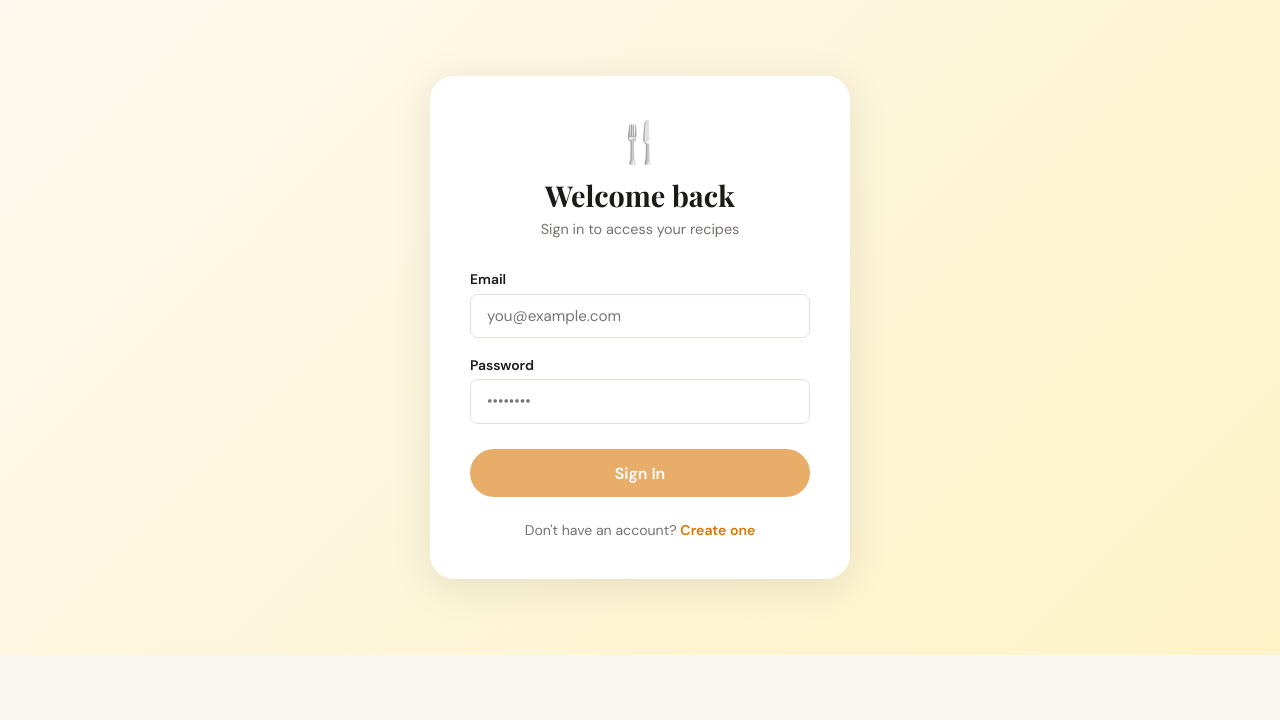
Test: Login Form › shows error on failed login
The width and height of the screenshot is (1280, 720).
Type "nouser@test.com" into the field labelled "Email". click: (640, 316)
box: [470,294,810,338]
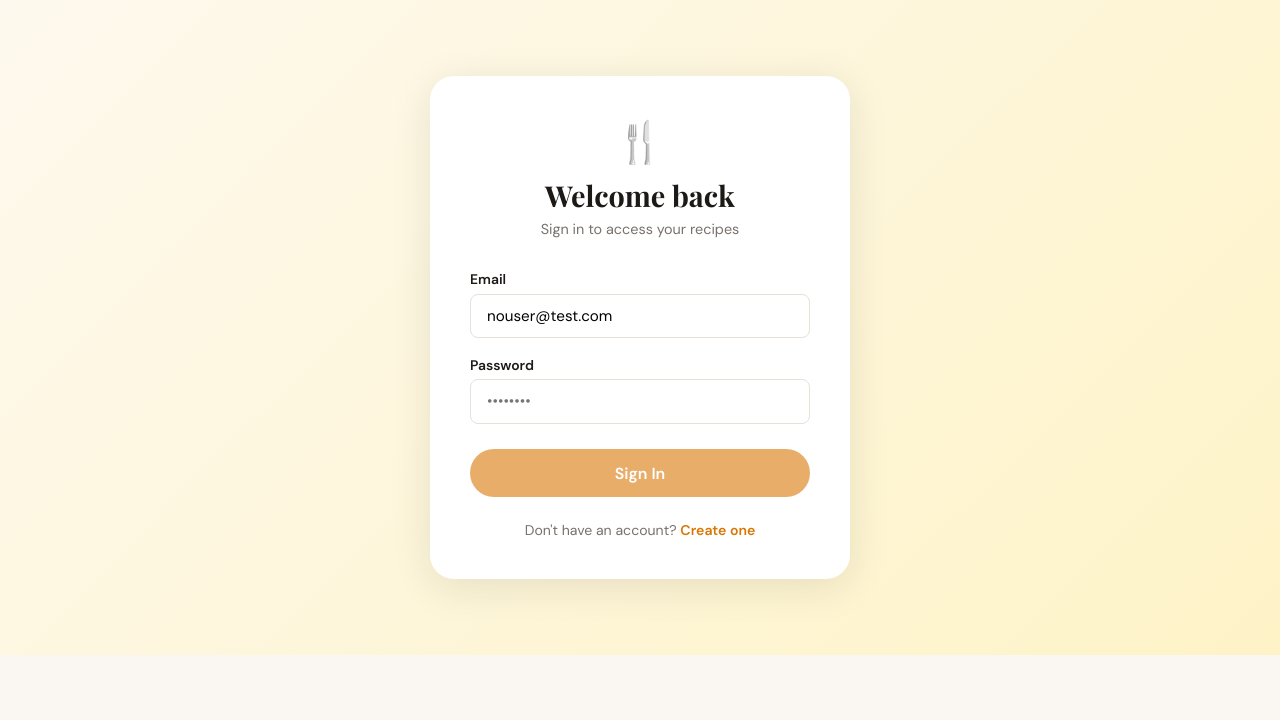
Type "wrongpass" into the password field labelled "Password". click: (640, 401)
box: [470,379,810,424]
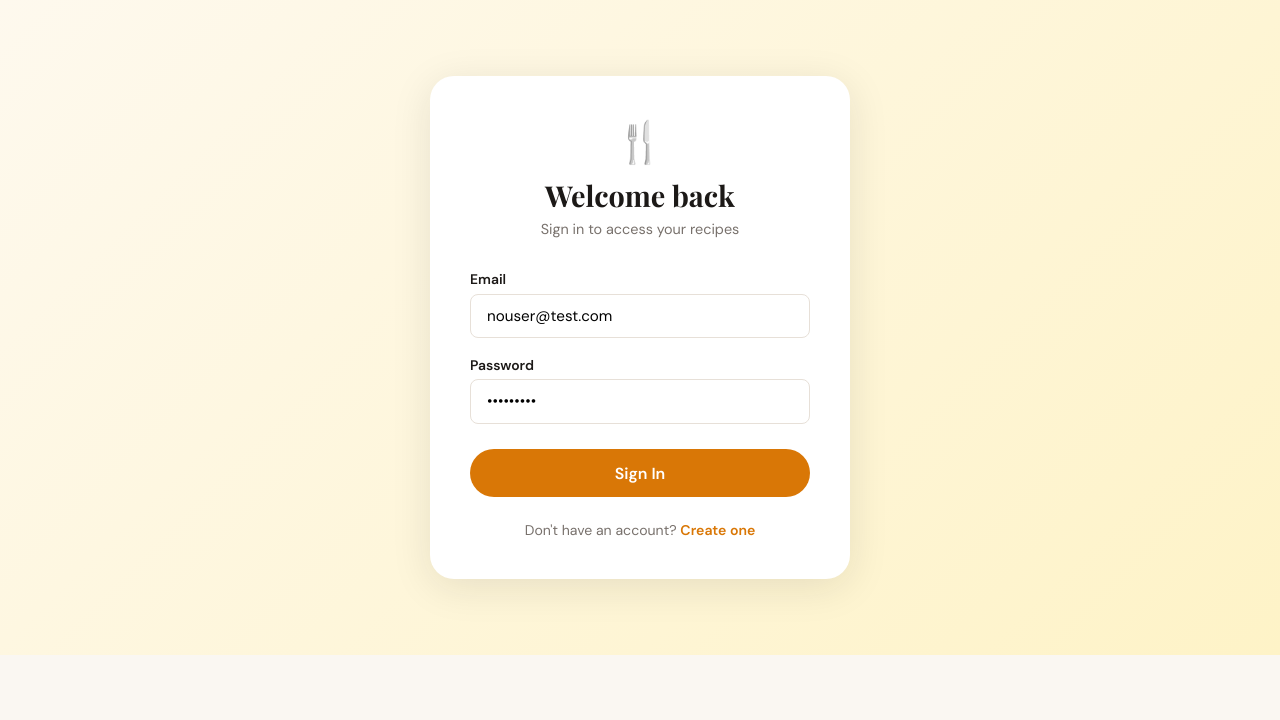
Click the button "Sign In". click: (640, 473)
box: [470,449,810,497]
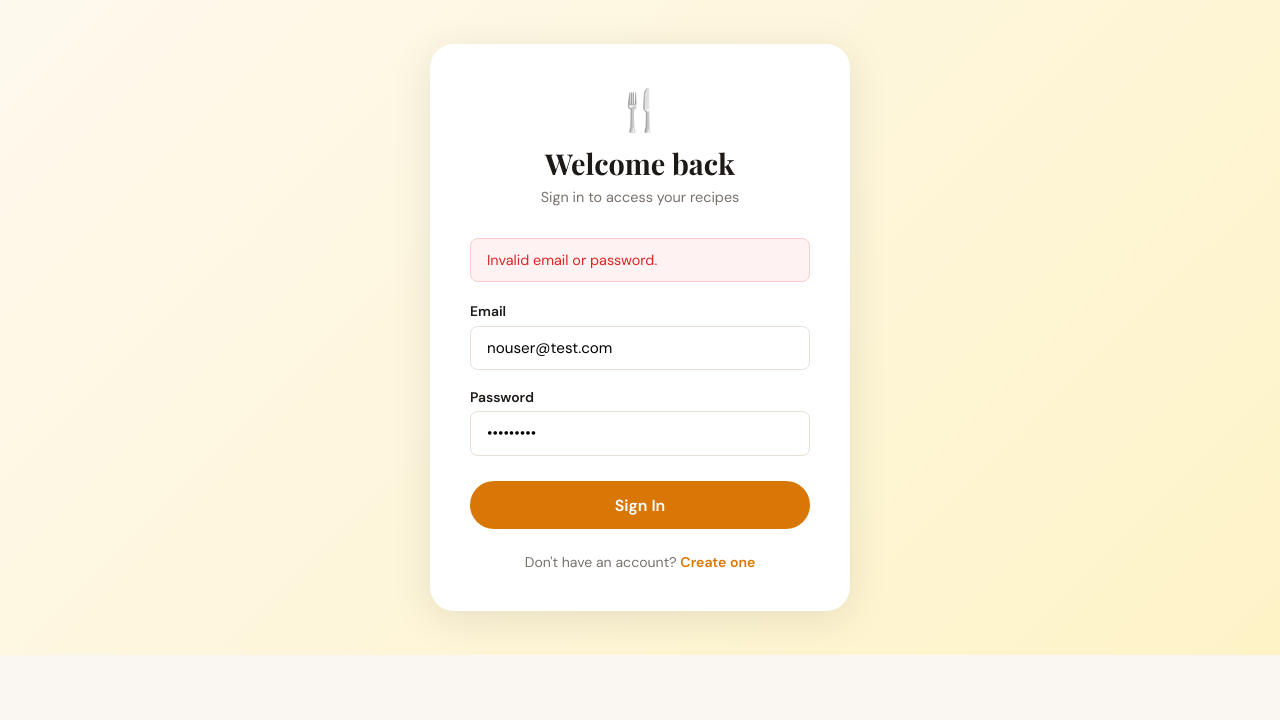
Expected: the message "Invalid email or password." is shown, [470,238,810,282]
